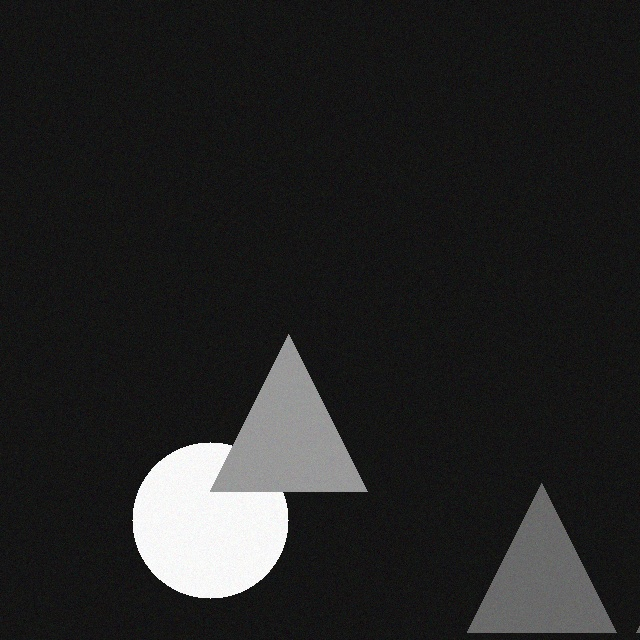circle: (145, 432, 301, 588)
triangle: (223, 324, 380, 481), (480, 473, 629, 622)
